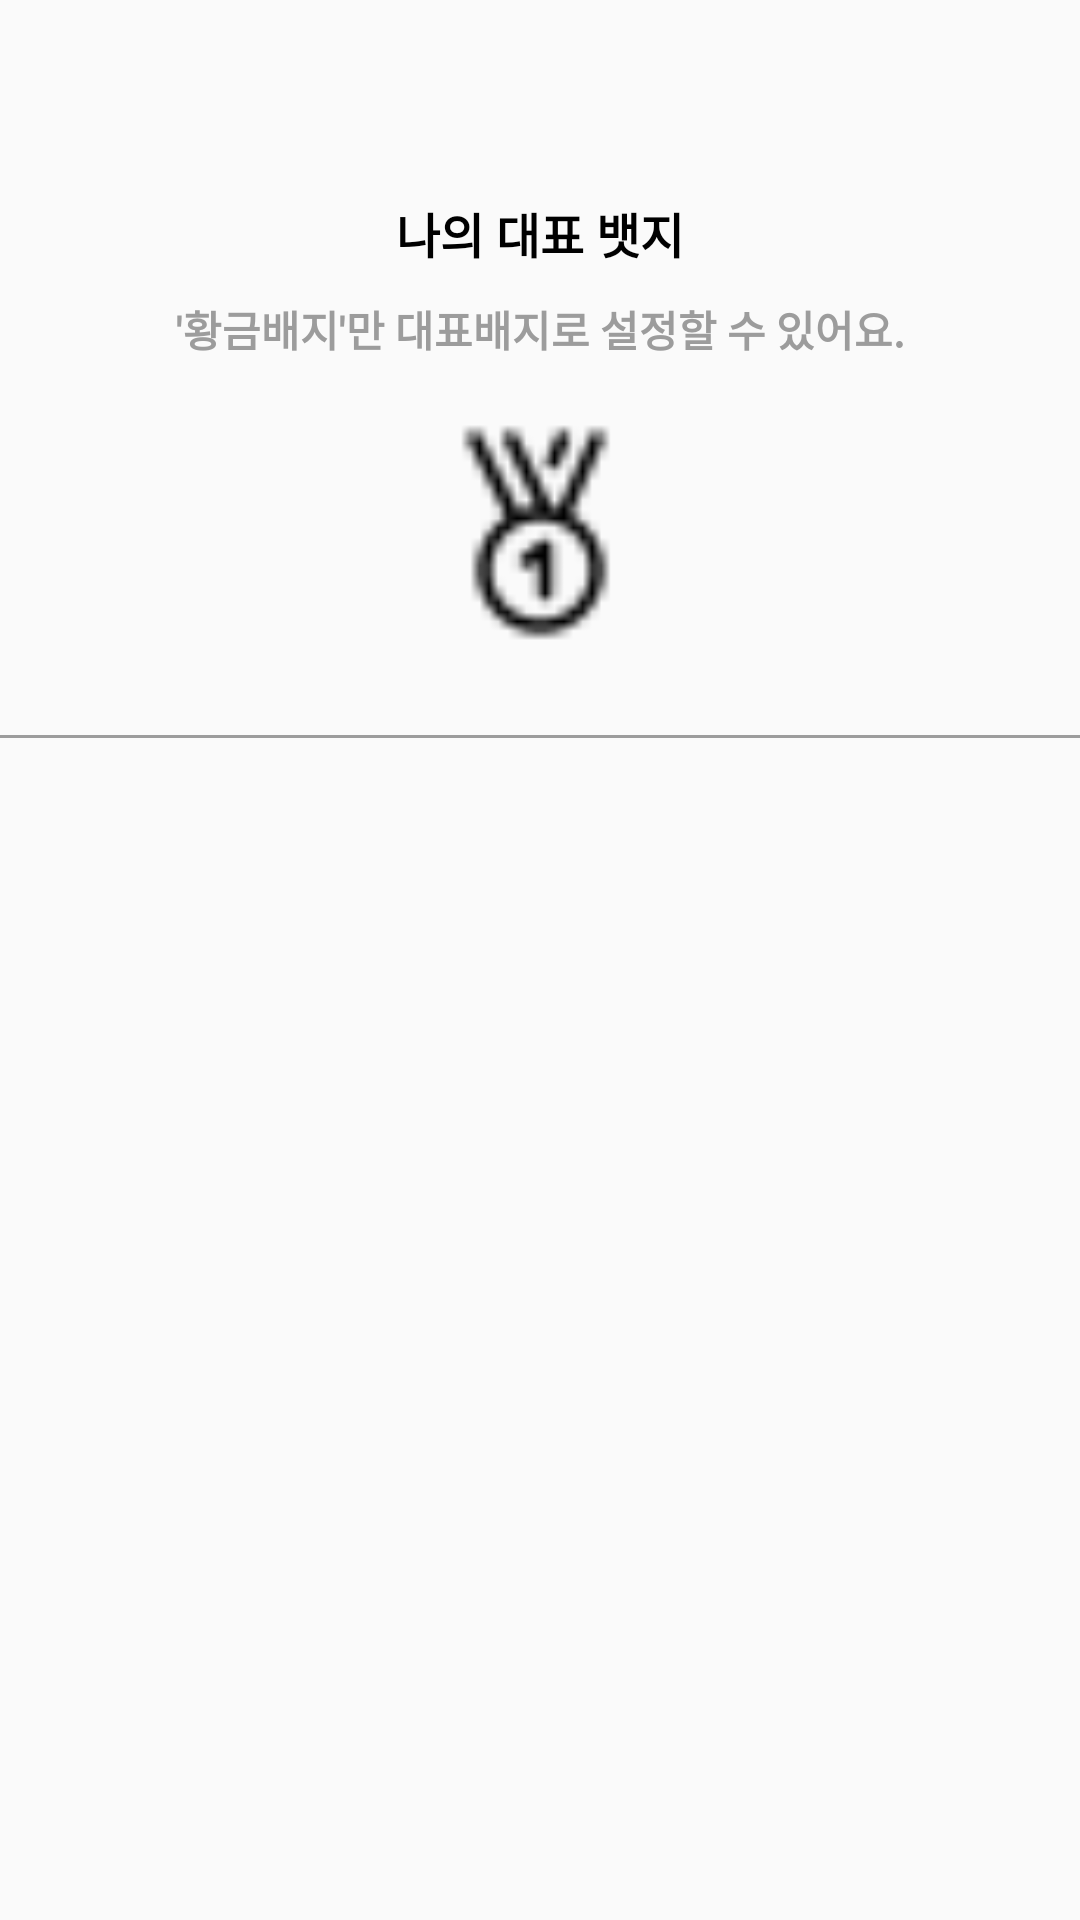

Icons on this 1080×1920 Android screen, each with the point to tap as (x,y):
bedge: (535,532)
